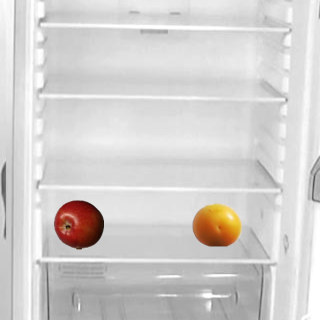Apple Braeburn: (53, 199, 103, 249)
Cherry Wax Yellow: (191, 199, 241, 249)
